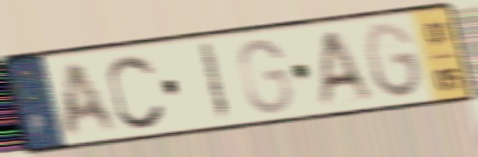A: (314, 26, 376, 111), (63, 58, 121, 141)
C: (105, 51, 169, 132)
G: (362, 19, 427, 102), (235, 36, 295, 117)
I: (195, 39, 233, 125)
